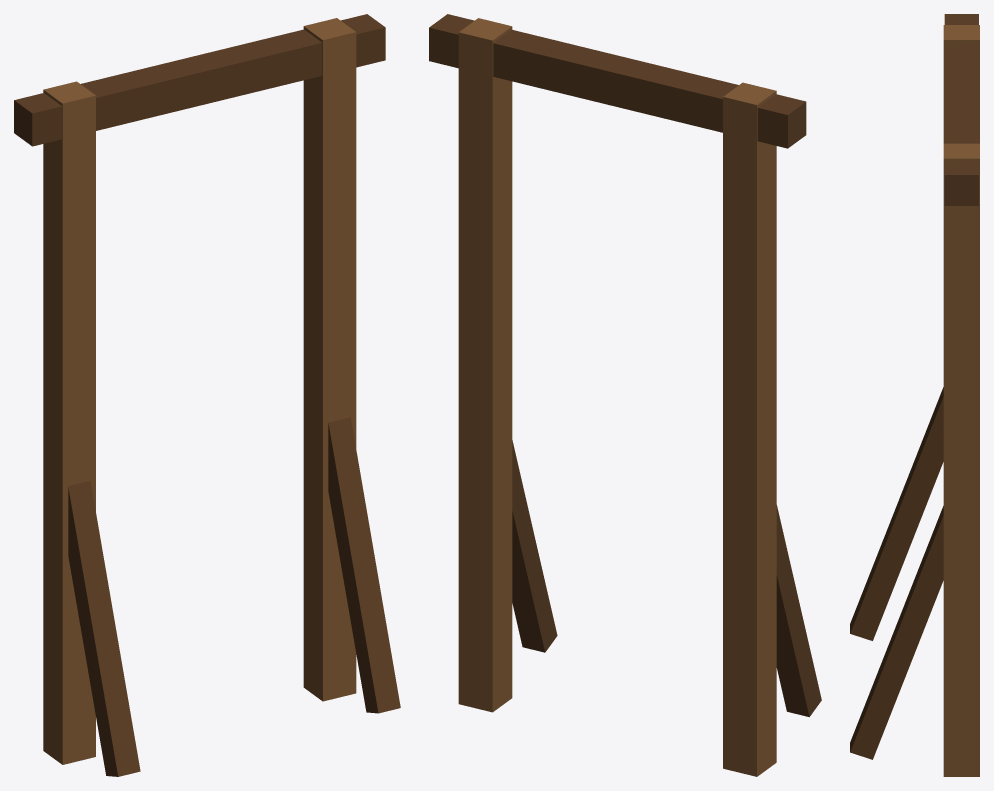
File: fld_rack.glb
The picture shows the model from 3 angles, left to right: view 1: azimuth 30°, elevation 25°; view 2: azimuth 150°, elevation 25°; view 3: azimuth 270°, elevation 25°; orthographic projection. The views are drawn at different scales.
Parts seen in each view (by area): view 1: fld_rack; view 2: fld_rack; view 3: fld_rack.
Part boxes in pixels (left/top/right/bottom): fld_rack: left=14, top=14, right=400, bottom=776; fld_rack: left=429, top=14, right=821, bottom=776; fld_rack: left=850, top=14, right=979, bottom=776.
Size of the model in its own units: 0.19 by 0.34 by 0.0647.
